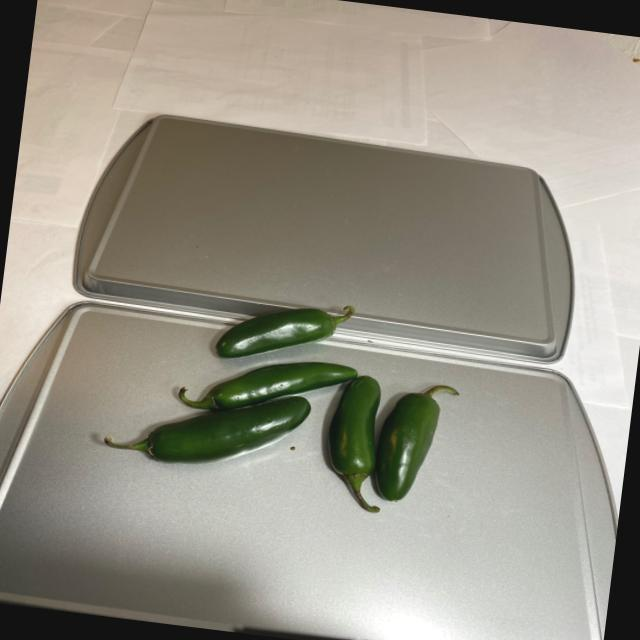chilli: (89, 270, 496, 528)
